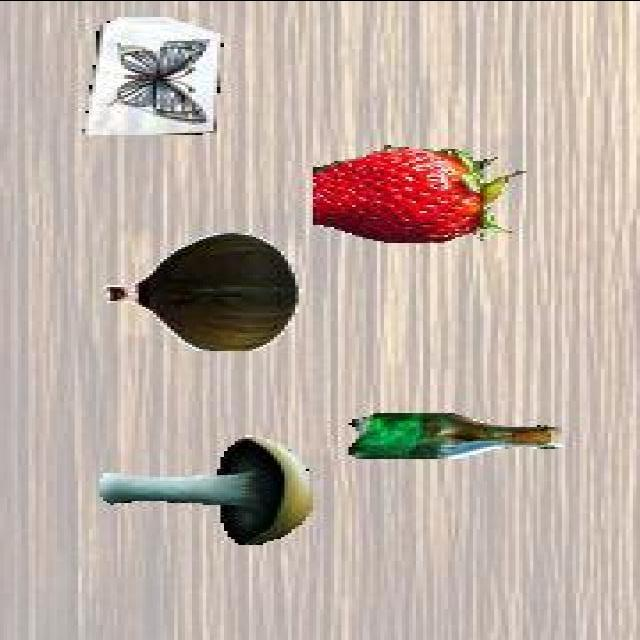Other Objects: (96, 434, 314, 544), (105, 232, 299, 351), (81, 17, 223, 136), (344, 410, 565, 460)
